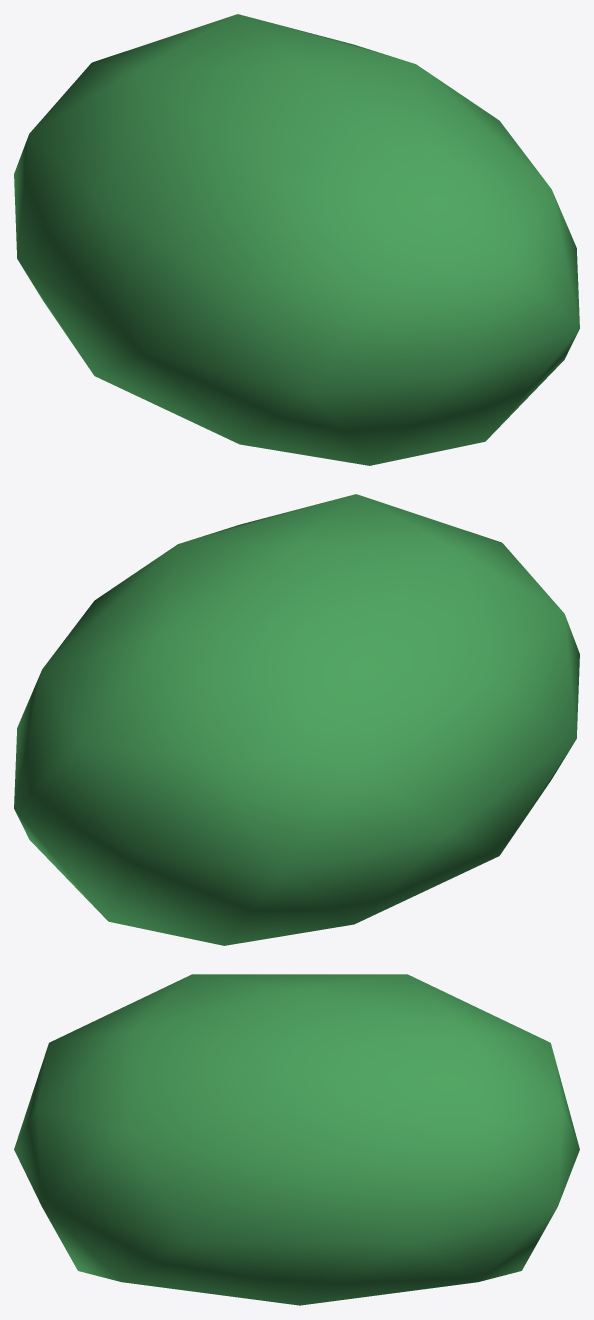
Rendered from Bush1.fbx.
3 views of the same model, one above another, from view 1: azimuth 30°, elevation 25°; view 2: azimuth 150°, elevation 25°; view 3: azimuth 270°, elevation 25° (orthographic). The views are drawn at different scales.
Visible parts, largest first — view 1: Bush_1; view 2: Bush_1; view 3: Bush_1.
Boxes of the visible parts, left/top/right/bottom form: Bush_1: left=14, top=14, right=579, bottom=465; Bush_1: left=14, top=494, right=579, bottom=945; Bush_1: left=14, top=974, right=579, bottom=1305.
Bounding box in the file's own units: 81.28 × 54.71 × 107.
